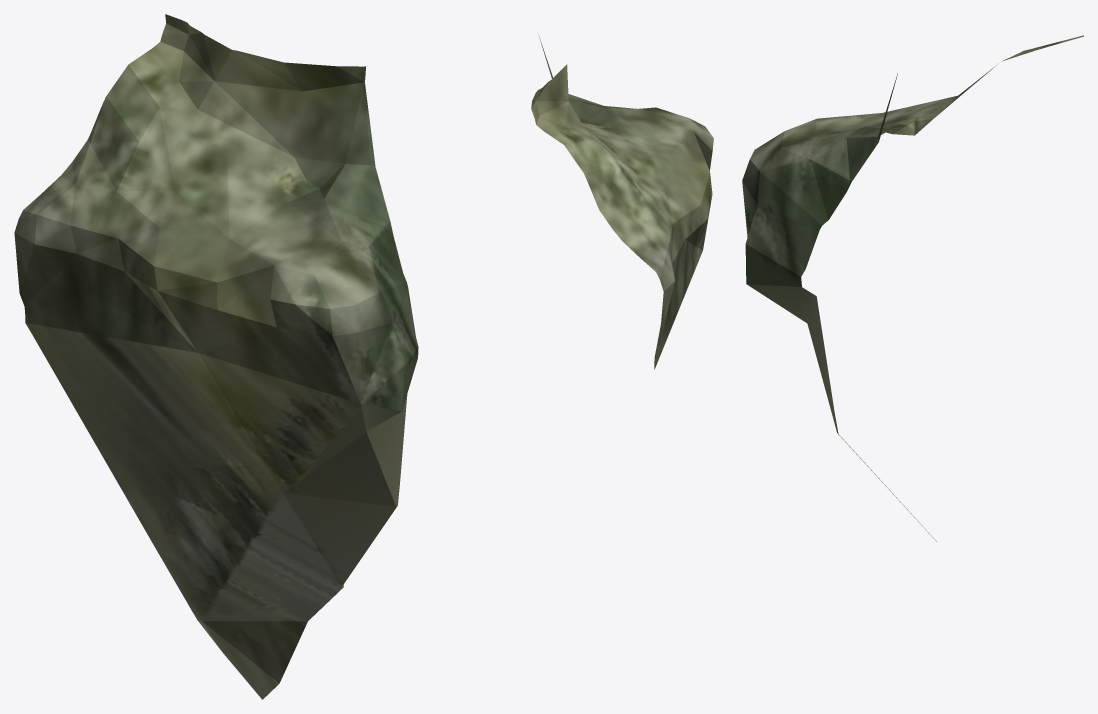
3 renders of one model, left to right at view 1: azimuth 30°, elevation 25°; view 2: azimuth 150°, elevation 25°; view 3: azimuth 270°, elevation 25°, orthographic. The views are drawn at different scales.
Bounding box in the file's own units: 0.8673 × 2.37 × 1.14.
Materials: 1 (1 with a texture image).
